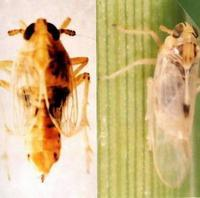Delphacidae: (101, 17, 199, 189), (1, 16, 93, 184)
